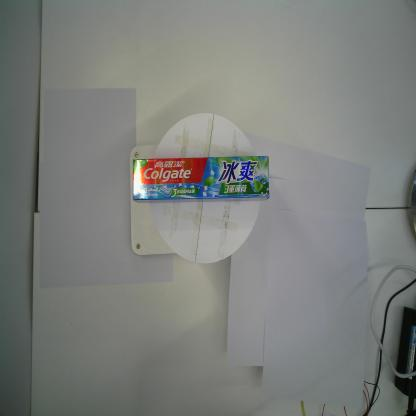Personal Hygiene: (133, 154, 269, 203)
